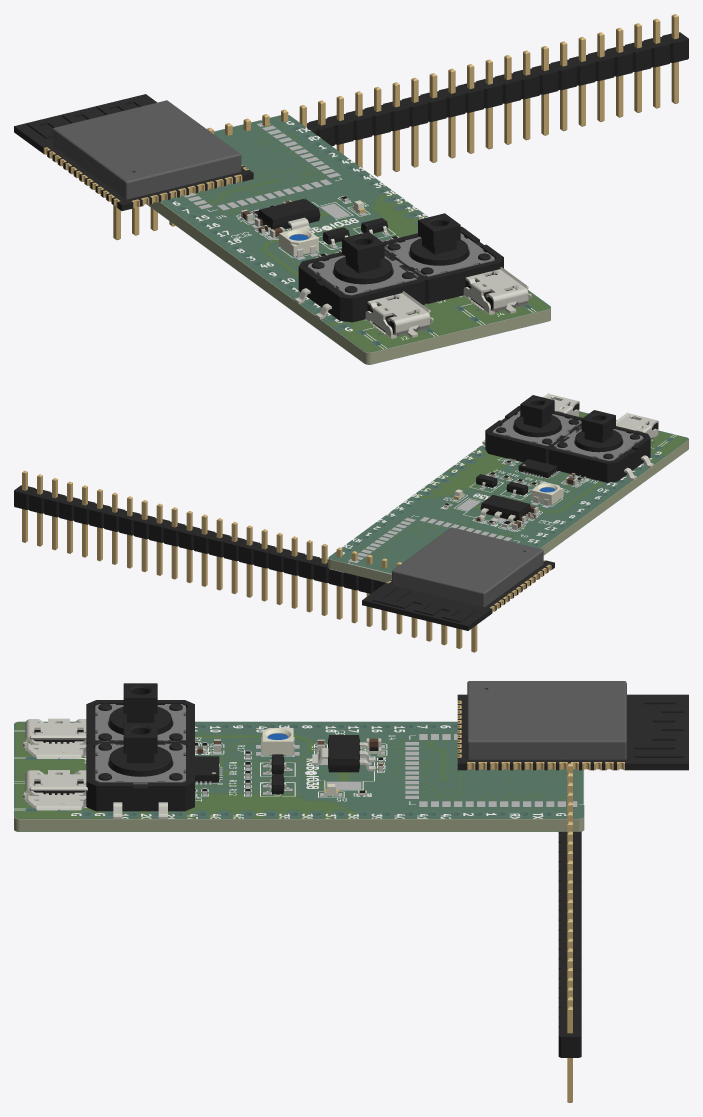
The model's file is esp32-s3-devkitc-1-v1.1.glb.
3 views of the same model, one above another, from view 1: azimuth 30°, elevation 25°; view 2: azimuth 150°, elevation 25°; view 3: azimuth 270°, elevation 25° (orthographic). The views are drawn at different scales.
Parts seen in each view (by area): view 1: =>[0:1:1:37], U4, =>[0:1:1:39], J3, J1, SW1, SW2, =>[0:1:1:32], =>[0:1:1:33], J2, J4, =>[0:1:1:35] (+2 smaller); view 2: =>[0:1:1:37], U4, J1, J3, =>[0:1:1:39], SW1, SW2, =>[0:1:1:33], =>[0:1:1:32], =>[0:1:1:35], U2, J2 (+3 smaller); view 3: =>[0:1:1:37], =>[0:1:1:39], U4, SW2, =>[0:1:1:33], =>[0:1:1:32], SW1, J3, =>[0:1:1:35], J4, J2, J1 (+3 smaller).
Boxes of the visible parts, box(x1,y1,x2,y2) form: =>[0:1:1:37]: box(160, 115, 550, 352); U4: box(14, 94, 253, 210); =>[0:1:1:39]: box(148, 116, 550, 364); J3: box(281, 14, 688, 176); J1: box(113, 55, 521, 239); SW1: box(294, 232, 427, 322); SW2: box(383, 213, 505, 303); =>[0:1:1:32]: box(206, 137, 549, 351); =>[0:1:1:33]: box(164, 118, 532, 345); J2: box(365, 291, 433, 338); J4: box(463, 267, 531, 314); =>[0:1:1:35]: box(173, 120, 536, 349); =>[0:1:1:37]: box(328, 411, 688, 574); U4: box(362, 527, 554, 630); J1: box(149, 503, 477, 652); J3: box(14, 470, 341, 618); =>[0:1:1:39]: box(328, 439, 688, 582); SW1: box(547, 410, 653, 482); SW2: box(482, 395, 582, 463); =>[0:1:1:33]: box(334, 438, 673, 563); =>[0:1:1:32]: box(414, 412, 686, 535); =>[0:1:1:35]: box(342, 434, 676, 573); U2: box(478, 495, 530, 526); J2: box(616, 412, 658, 441); =>[0:1:1:37]: box(14, 721, 584, 818); =>[0:1:1:39]: box(14, 722, 584, 831); U4: box(457, 681, 688, 770); SW2: box(86, 723, 194, 819); =>[0:1:1:33]: box(24, 724, 577, 817); =>[0:1:1:32]: box(16, 723, 576, 817); SW1: box(86, 683, 194, 747); J3: box(558, 802, 581, 1102); =>[0:1:1:35]: box(14, 725, 584, 818); J4: box(23, 770, 87, 810); J2: box(23, 718, 86, 758); J1: box(558, 763, 581, 949).
Bounding box in the file's own units: 0.084 × 0.0175 × 0.0744.
